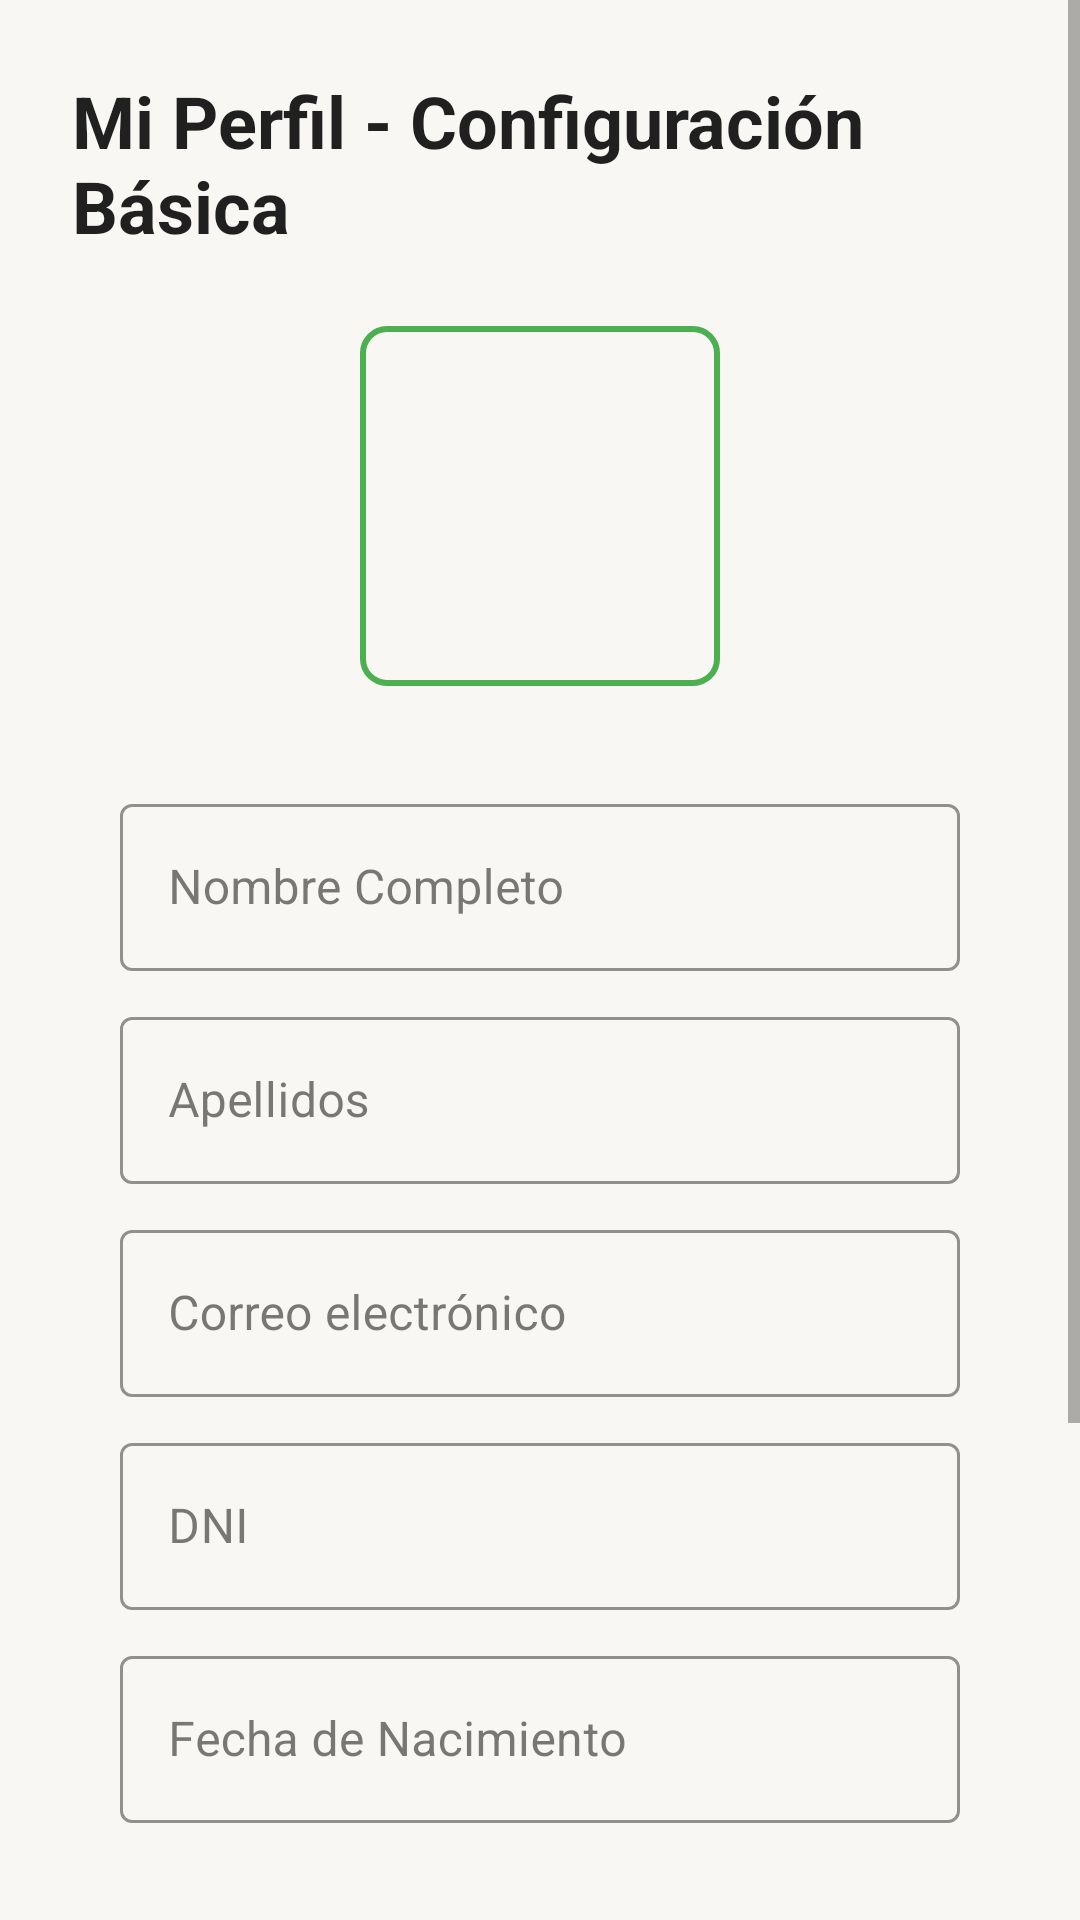

Screen size 1080px x 1920px. Icon name, then its box in pixels as box(x1, y1, x2, y2):
borde institucional: box(360, 326, 720, 686)
